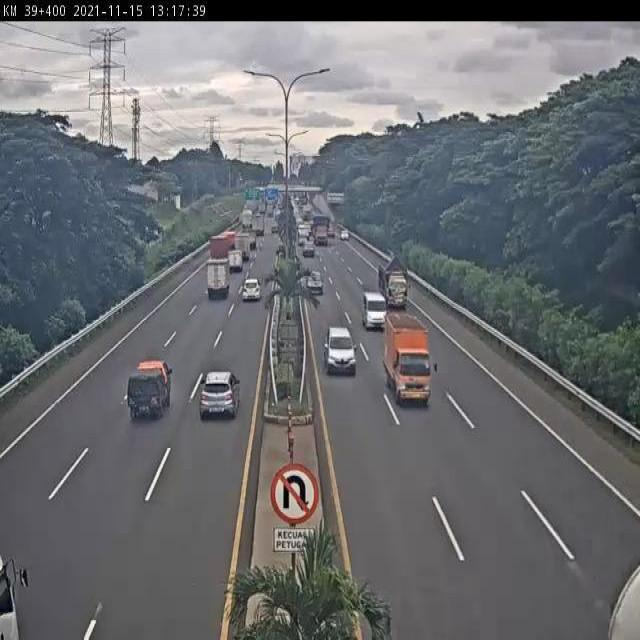car: (126, 356, 174, 420), (199, 370, 242, 418), (323, 323, 357, 376), (361, 291, 387, 329), (239, 274, 263, 302), (306, 267, 325, 297)
truck-s-: (383, 312, 433, 407), (377, 258, 410, 310), (205, 257, 232, 299)
